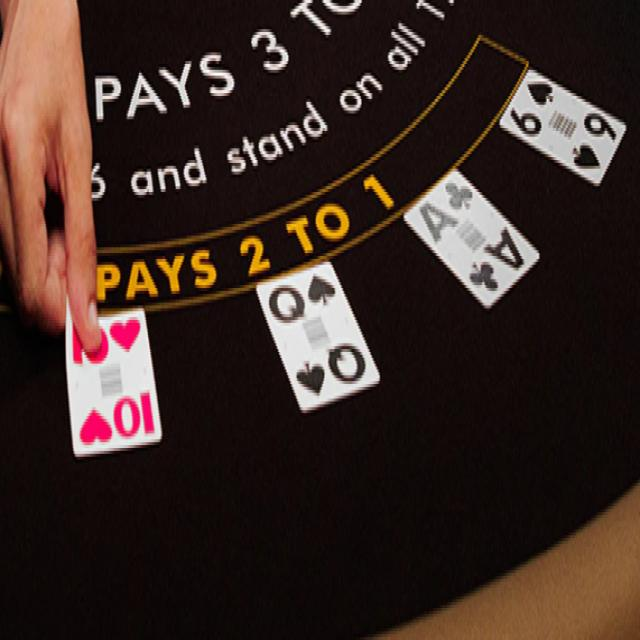Card-10: (66, 306, 161, 455)
Card-6: (500, 68, 626, 185)
Card-A: (404, 168, 538, 306)
Card-Q: (257, 261, 379, 410)
